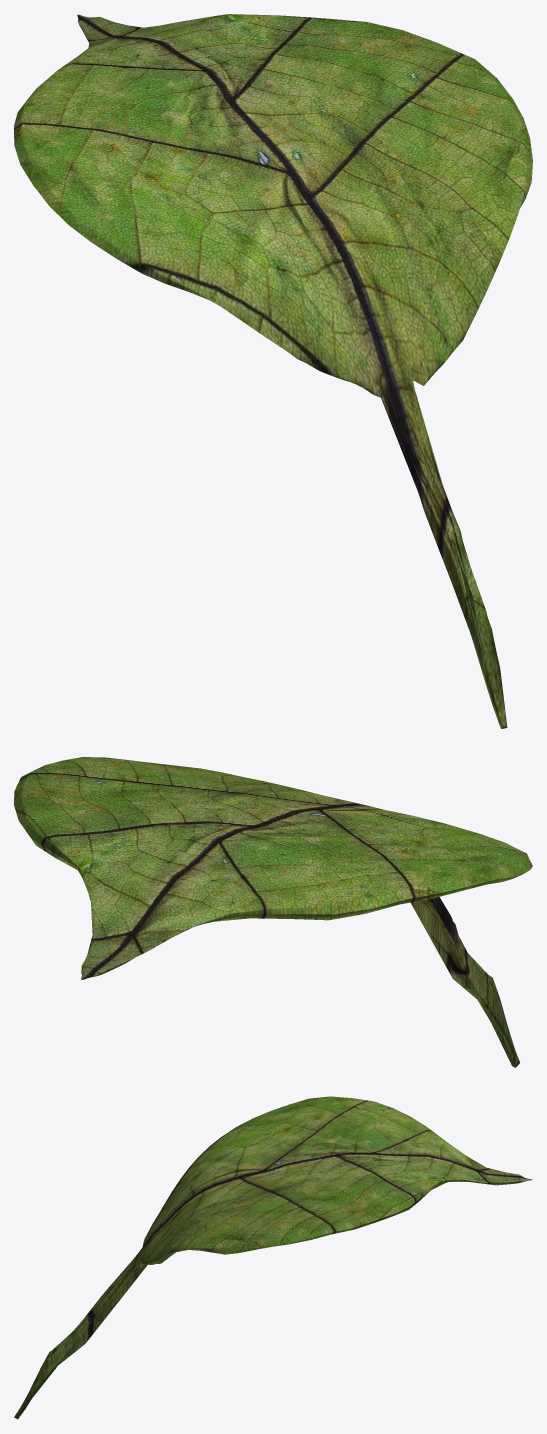
Rendered from leaf1.fbx.
3 renders of one model, top to bottom at view 1: azimuth 30°, elevation 25°; view 2: azimuth 150°, elevation 25°; view 3: azimuth 270°, elevation 25°, orthographic. The views are drawn at different scales.
Visible parts, largest first — view 1: pCube6; view 2: pCube6; view 3: pCube6.
Part boxes in pixels (x1=…): pCube6: x1=14, y1=14, x2=532, y2=728; pCube6: x1=14, y1=757, x2=532, y2=1067; pCube6: x1=14, y1=1096, x2=532, y2=1419.
Size of the model in its own units: 2.98 by 2.72 by 4.81.
Materials: 1 (1 with a texture image).
